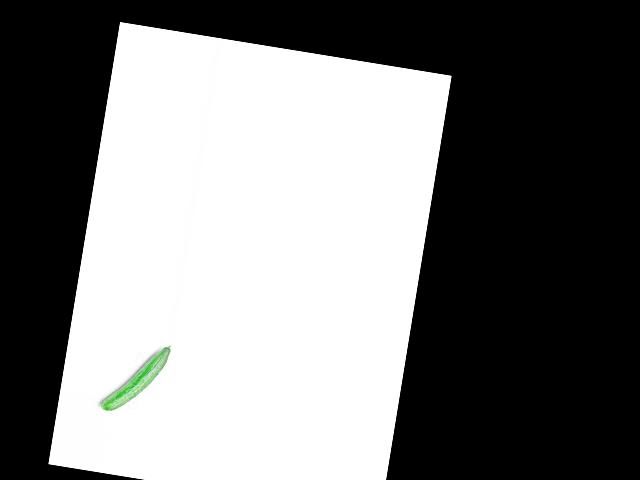cucumber: (99, 335, 171, 418)
